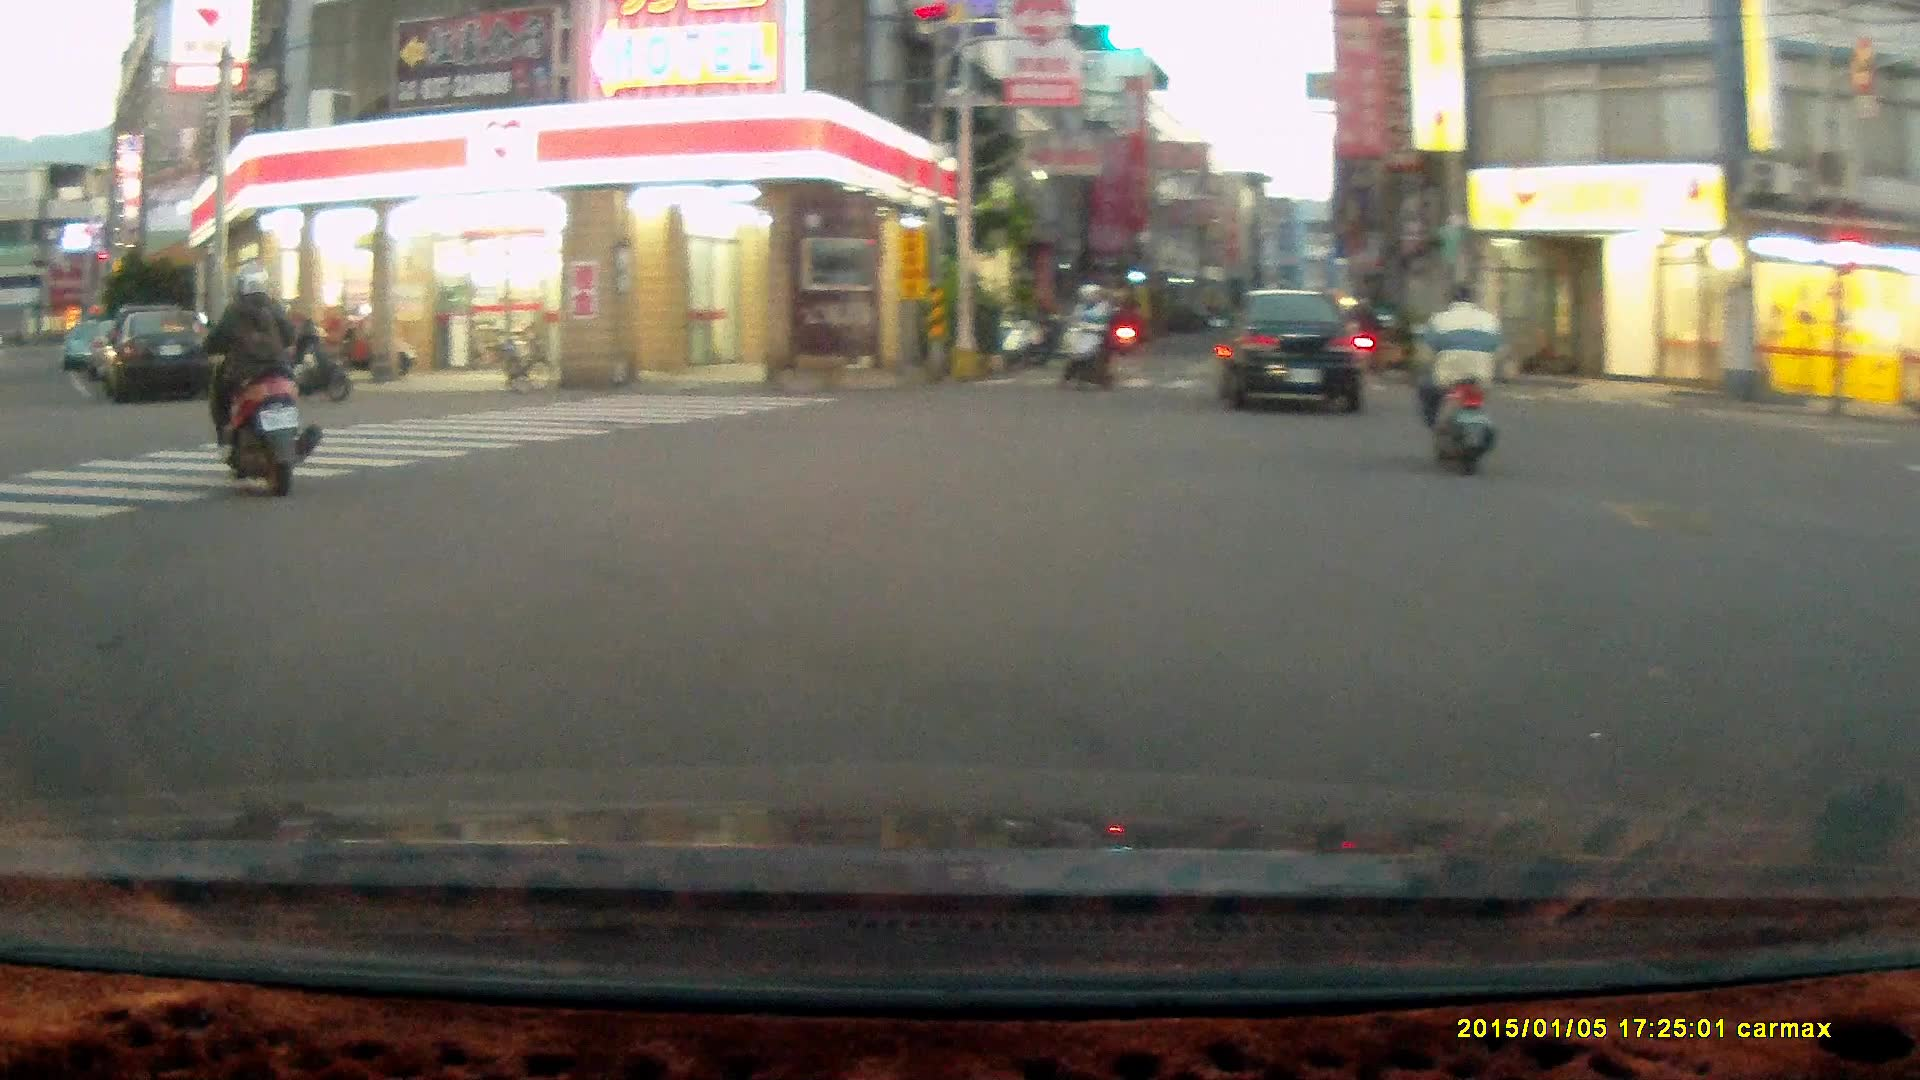rider: (197, 267, 323, 497), (1416, 279, 1508, 478), (1058, 280, 1117, 391)
vehicle: (1223, 290, 1375, 418), (111, 308, 234, 405)
